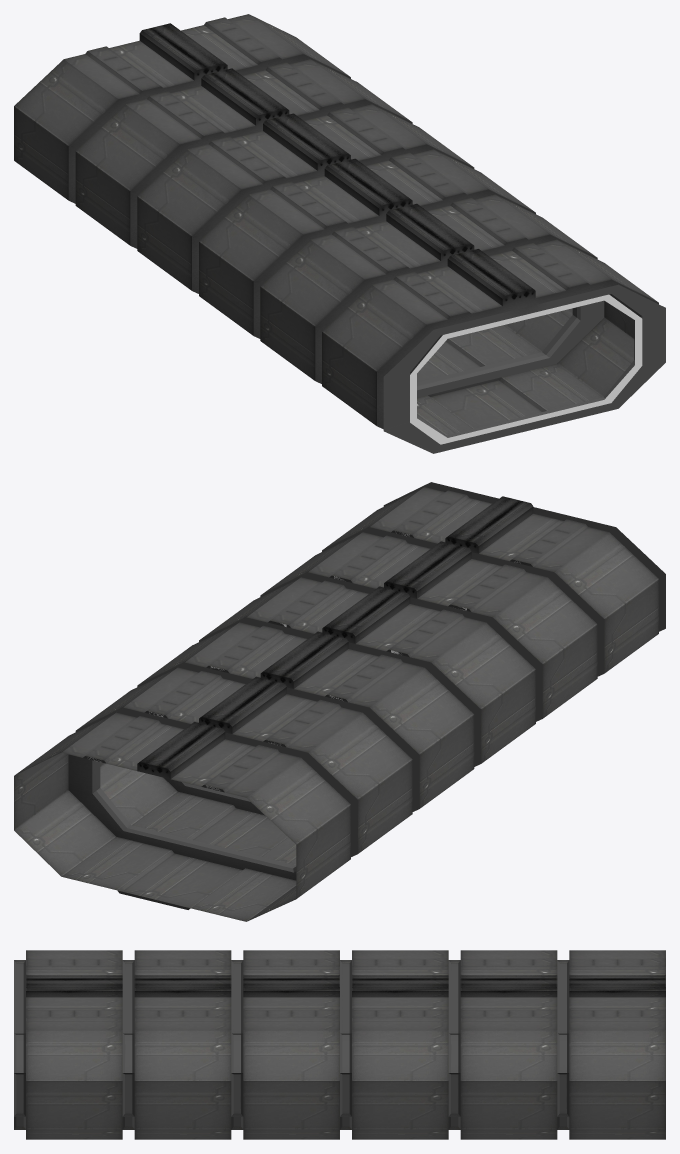
Rendered from tunnel1.fbx.
3 views of the same model, one above another, from view 1: azimuth 30°, elevation 25°; view 2: azimuth 150°, elevation 25°; view 3: azimuth 270°, elevation 25° (orthographic). The views are drawn at different scales.
Visible parts, largest first — view 1: metal, fl1.001; view 2: metal; view 3: metal.
Part boxes in pixels (box(x1,y1,x2,y2)): metal: box(14, 14, 665, 453); fl1.001: box(410, 294, 642, 444); metal: box(14, 482, 665, 921); metal: box(14, 950, 665, 1139).
Bounding box in the file's own units: 11900 × 5500 × 27000.
Materials: 3 (3 with a texture image).
